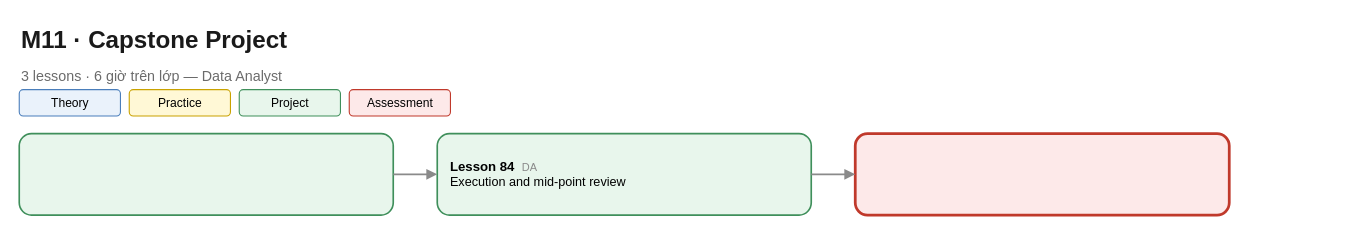
Some shapes in this 1359 by 235 pixel diagram are drawn without their labels. The box of each missing label's shape, as (x1, y1, x2, y2) in pixels:
Lesson 83 DA Choosing a topic and writing the spec: (18, 132, 394, 215)
Lesson 85 KT Capstone defense: (853, 132, 1230, 216)
